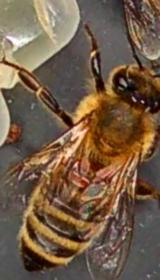varroa_mite: (64, 168, 94, 189)
